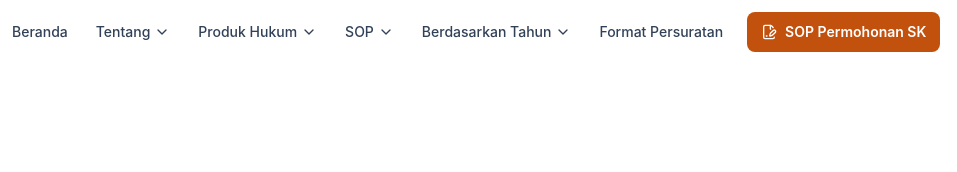
it: menu Berdasarkan Tahun › menampilkan keterangan bila belum ada tahun
The width and height of the screenshot is (957, 172).
Click the button "Berdasarkan Tahun" at (497, 32), box [410,14,584,50]
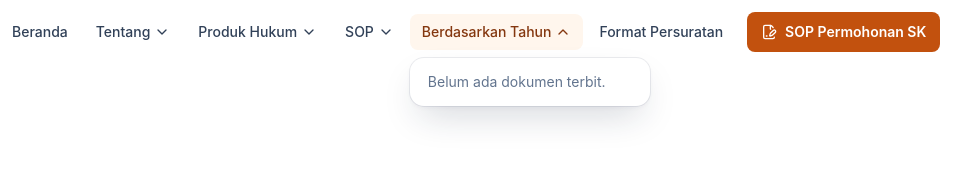
Now the text "Belum ada dokumen terbit." is shown, box [428,73,606,90]
